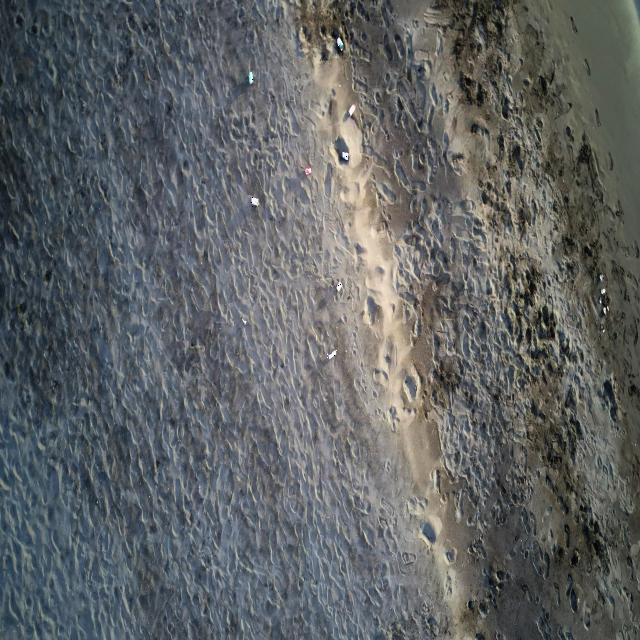tin-and-aluminum-cans: (347, 104, 356, 117), (336, 37, 344, 51), (327, 350, 337, 360), (251, 196, 259, 208), (336, 281, 343, 293), (341, 152, 348, 162), (248, 71, 253, 84), (305, 167, 312, 174)
